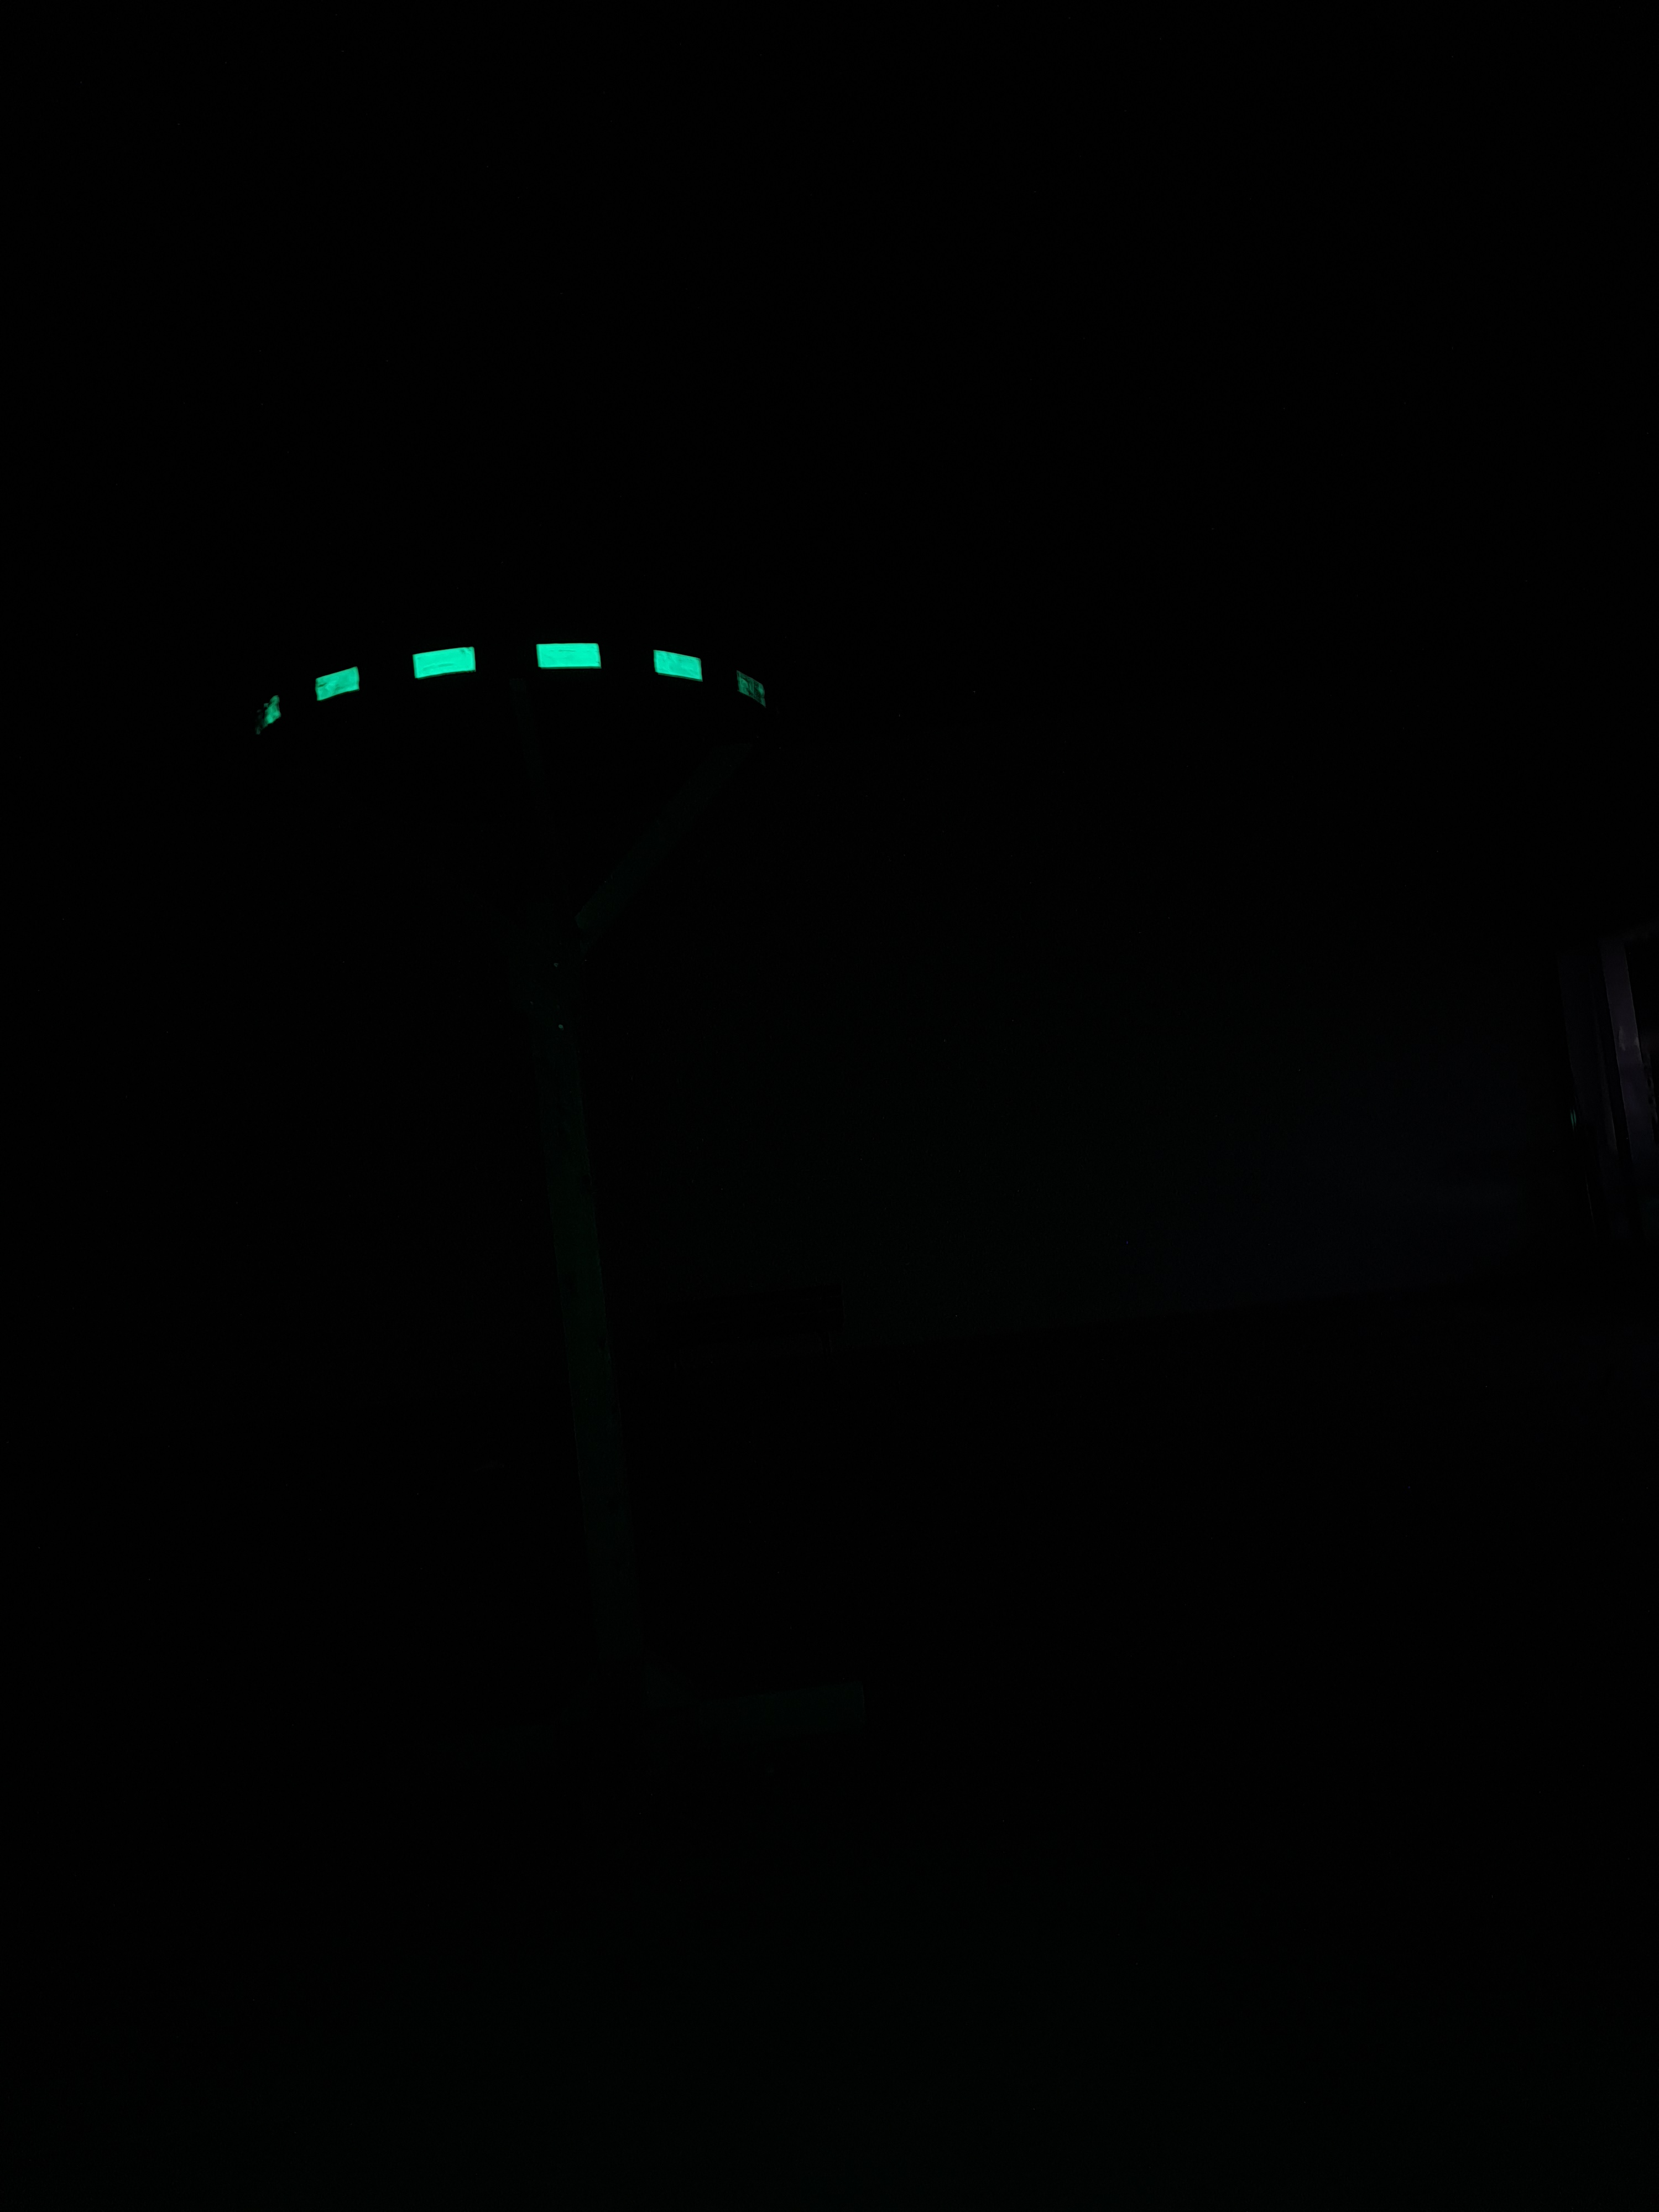hoop: (244, 632, 774, 754)
